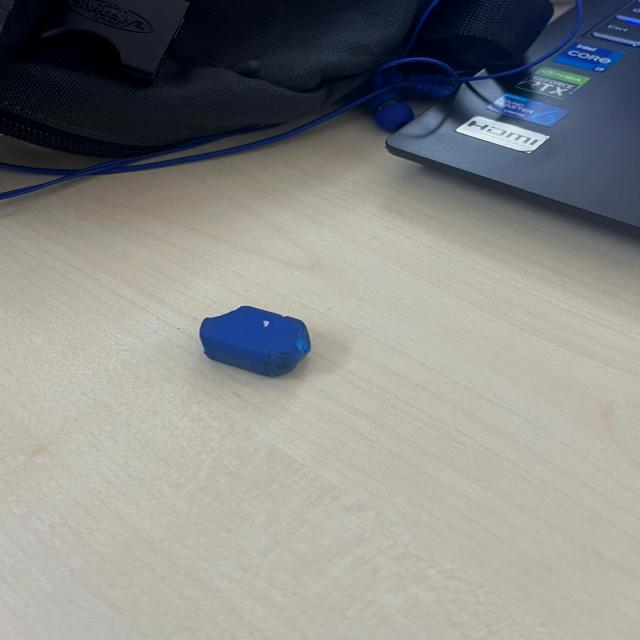eraser: (192, 300, 316, 380)
